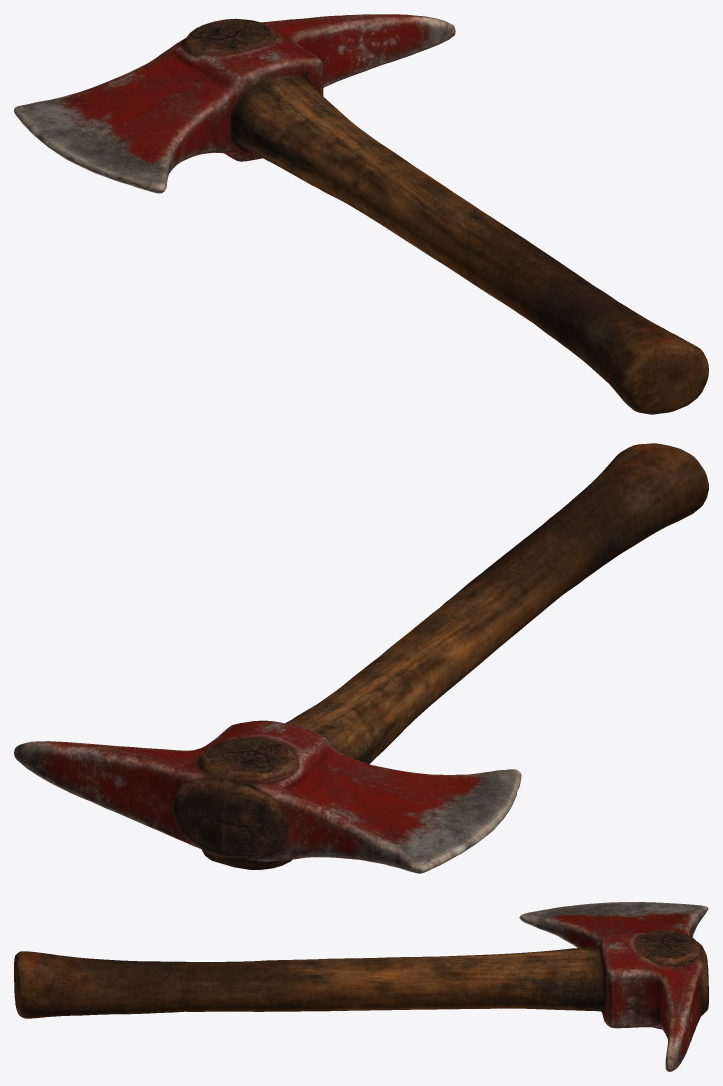
File: fire-axe.glb
The picture shows the model from 3 angles, top to bottom: view 1: azimuth 30°, elevation 25°; view 2: azimuth 150°, elevation 25°; view 3: azimuth 270°, elevation 25°; orthographic projection. The views are drawn at different scales.
Visible parts, largest first — view 1: Mesh_0; view 2: Mesh_0; view 3: Mesh_0.
Boxes of the visible parts, left/top/right/bottom form: Mesh_0: left=14, top=14, right=708, bottom=414; Mesh_0: left=14, top=443, right=708, bottom=873; Mesh_0: left=14, top=902, right=708, bottom=1071.
Size of the model in its own units: 0.441 by 0.0955 by 0.8.
Materials: 1 (1 with a texture image).
